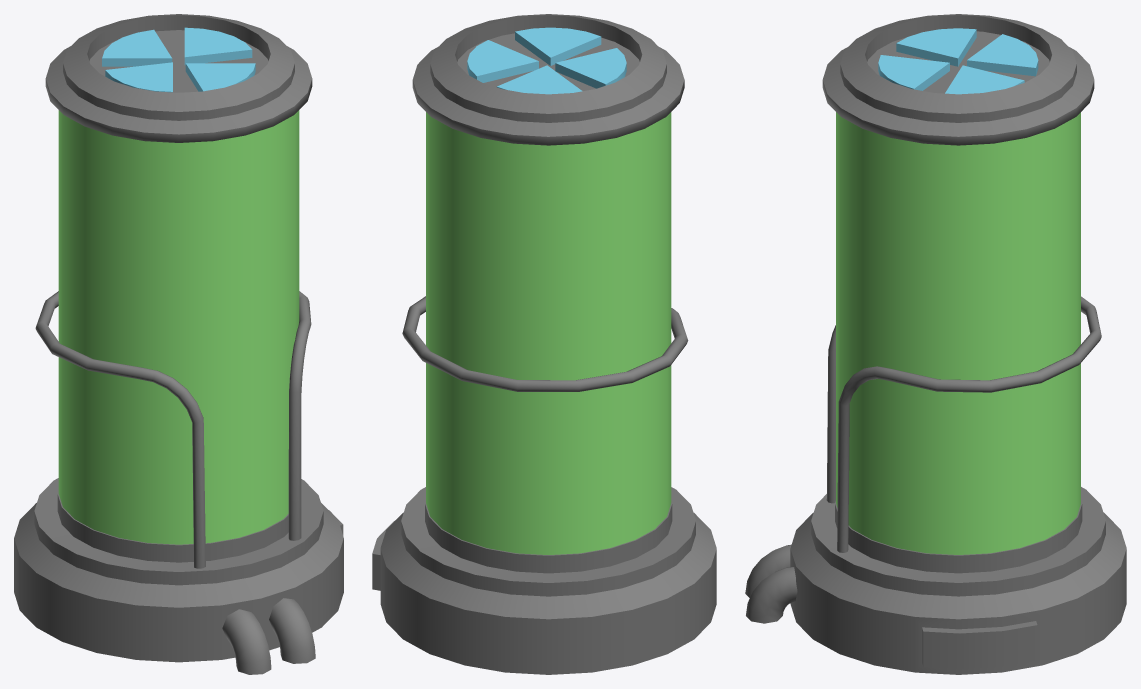
File: battery_mdl.fbx
3 views of the same model, side by side, from view 1: azimuth 30°, elevation 25°; view 2: azimuth 150°, elevation 25°; view 3: azimuth 270°, elevation 25° (orthographic).
Visible parts, largest first — view 1: glass_nskn, body_nskn, marker2_nskn, marker1_nskn, marker3_nskn, marker4_nskn; view 2: glass_nskn, body_nskn, marker3_nskn, marker2_nskn, marker4_nskn, marker1_nskn; view 3: glass_nskn, body_nskn, marker4_nskn, marker1_nskn, marker3_nskn, marker2_nskn.
Boxes of the visible parts, <box> form: glass_nskn: <box>58,110,299,544</box>; body_nskn: <box>14,14,343,674</box>; marker2_nskn: <box>184,27,252,65</box>; marker1_nskn: <box>102,29,172,66</box>; marker3_nskn: <box>185,63,255,91</box>; marker4_nskn: <box>105,62,172,92</box>; glass_nskn: <box>426,112,671,554</box>; body_nskn: <box>372,14,716,674</box>; marker3_nskn: <box>515,27,601,65</box>; marker2_nskn: <box>467,40,538,82</box>; marker4_nskn: <box>555,48,626,88</box>; marker1_nskn: <box>497,65,582,94</box>; glass_nskn: <box>836,112,1080,554</box>; body_nskn: <box>745,14,1126,674</box>; marker4_nskn: <box>896,28,976,66</box>; marker1_nskn: <box>967,34,1038,76</box>; marker3_nskn: <box>878,55,949,90</box>; marker2_nskn: <box>945,65,1024,94</box>.
Bounding box in the file's own units: 35.96 × 62.96 × 39.63.
